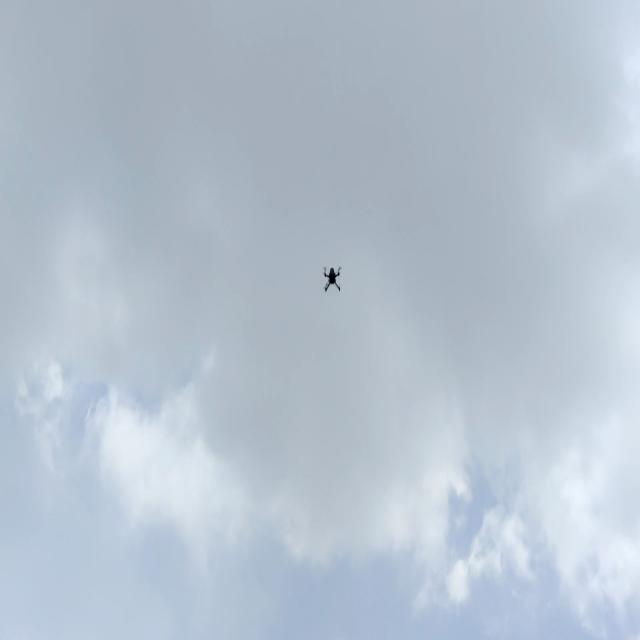drone: (318, 256, 346, 293)
